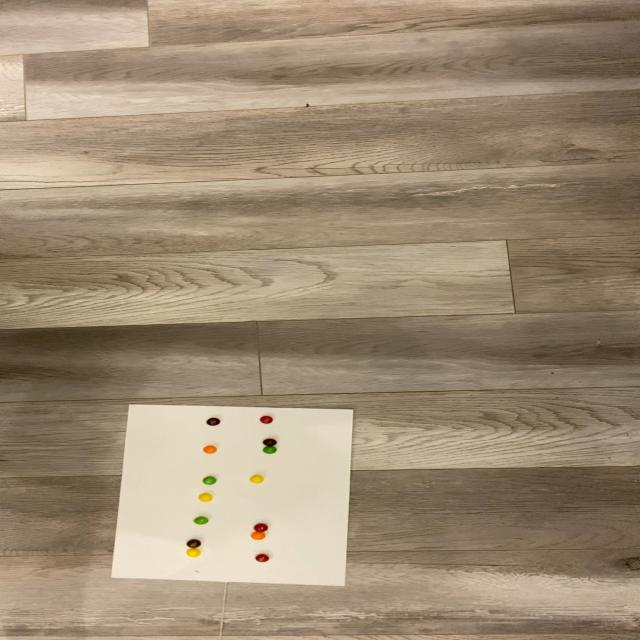smartie: (197, 492, 213, 502), (262, 438, 277, 448), (261, 446, 276, 456), (250, 531, 266, 540), (202, 445, 217, 454), (258, 416, 273, 425), (249, 475, 264, 484), (195, 517, 210, 526), (186, 540, 201, 549), (187, 548, 202, 557), (254, 554, 269, 563), (206, 418, 220, 427), (202, 476, 216, 485), (252, 524, 267, 532)
